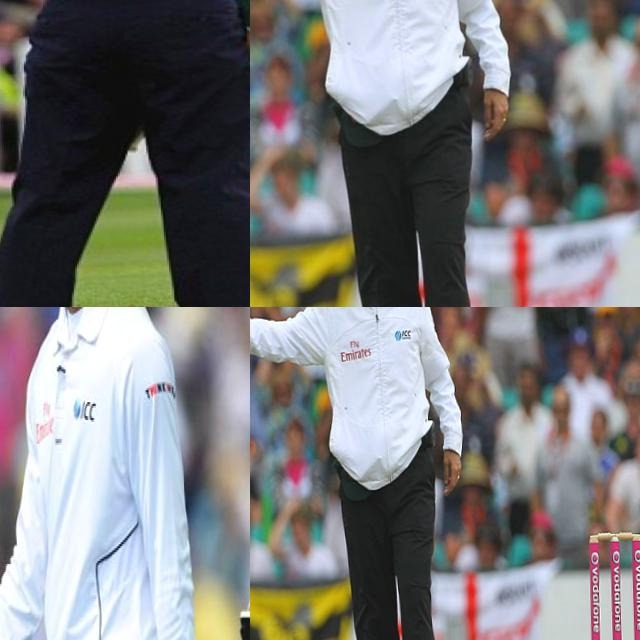No_Action: (0, 307, 212, 640), (130, 307, 250, 640)
No_Ball: (250, 0, 547, 307), (250, 307, 481, 640)
Out: (0, 0, 250, 307)
